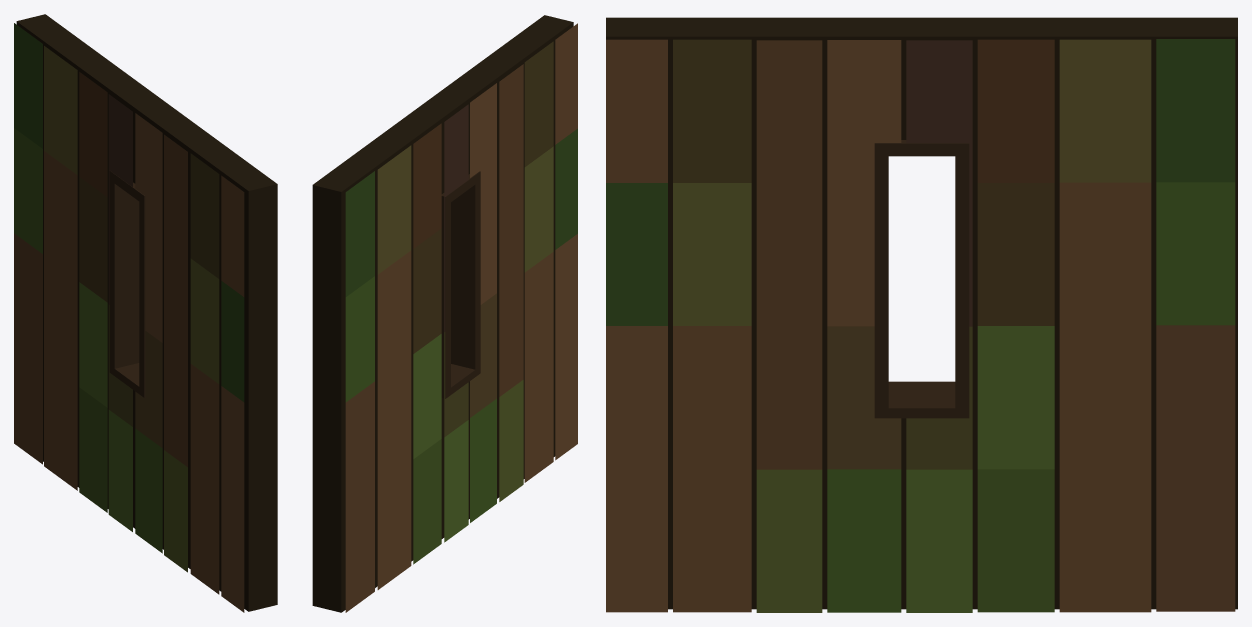
The model's file is wall-mossy-window-slit.glb.
The picture shows the model from 3 angles, left to right: view 1: azimuth 30°, elevation 25°; view 2: azimuth 150°, elevation 25°; view 3: azimuth 270°, elevation 25°; orthographic projection. The views are drawn at different scales.
Parts seen in each view (by area): view 1: wall-mossy-window-slit; view 2: wall-mossy-window-slit; view 3: wall-mossy-window-slit.
Boxes of the visible parts, <box> form: wall-mossy-window-slit: <box>14,14,277,612</box>; wall-mossy-window-slit: <box>312,15,577,612</box>; wall-mossy-window-slit: <box>606,17,1237,612</box>.
Bounding box in the file's own units: 0.1 × 1 × 1.
